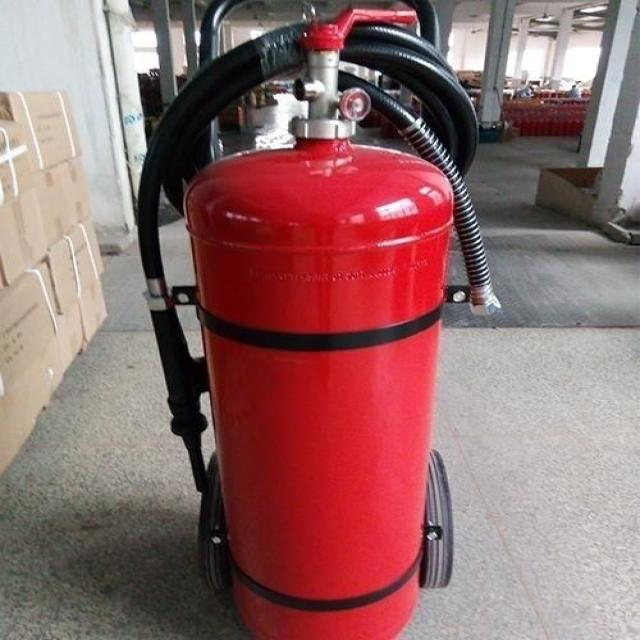fire_extinguisher: (125, 2, 505, 639)
